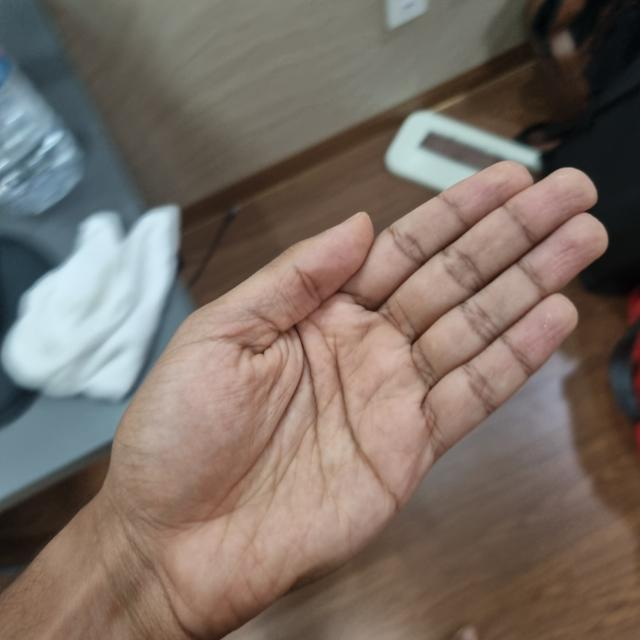Paper: (107, 160, 605, 629)
